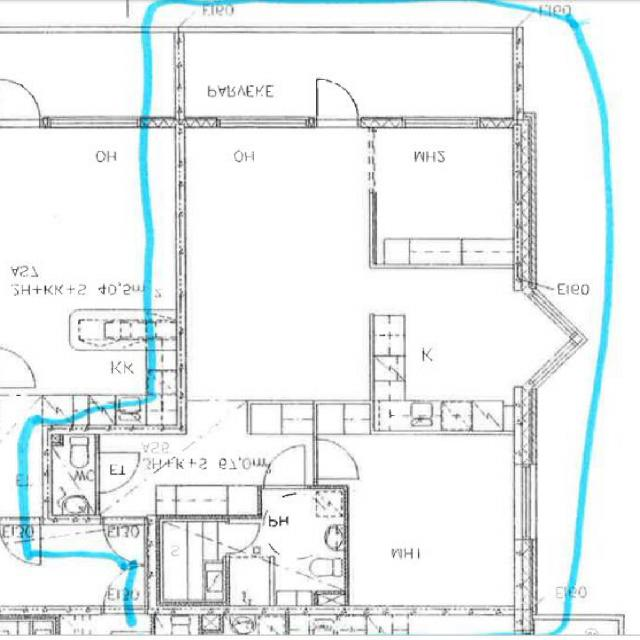door: (317, 77, 358, 127), (103, 514, 144, 564), (263, 444, 305, 488), (96, 452, 140, 492), (313, 439, 358, 478), (225, 523, 260, 553)
